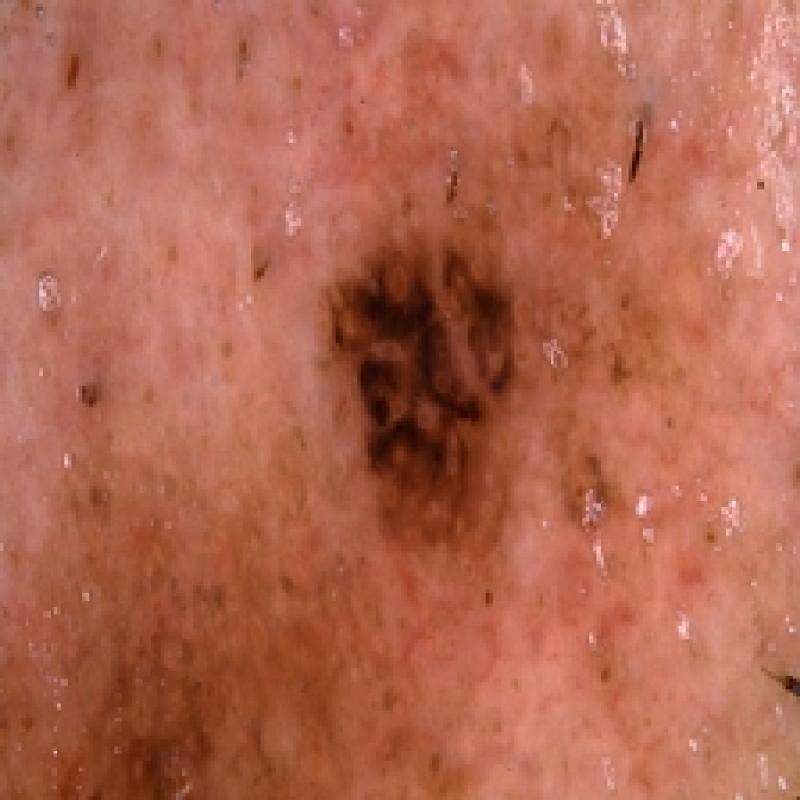malignant: (278, 166, 580, 580)
